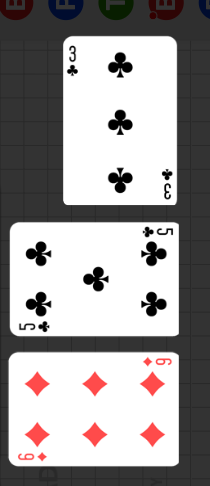3C: (66, 44, 81, 79)
5C: (140, 225, 175, 240)
6D: (17, 450, 50, 462)
